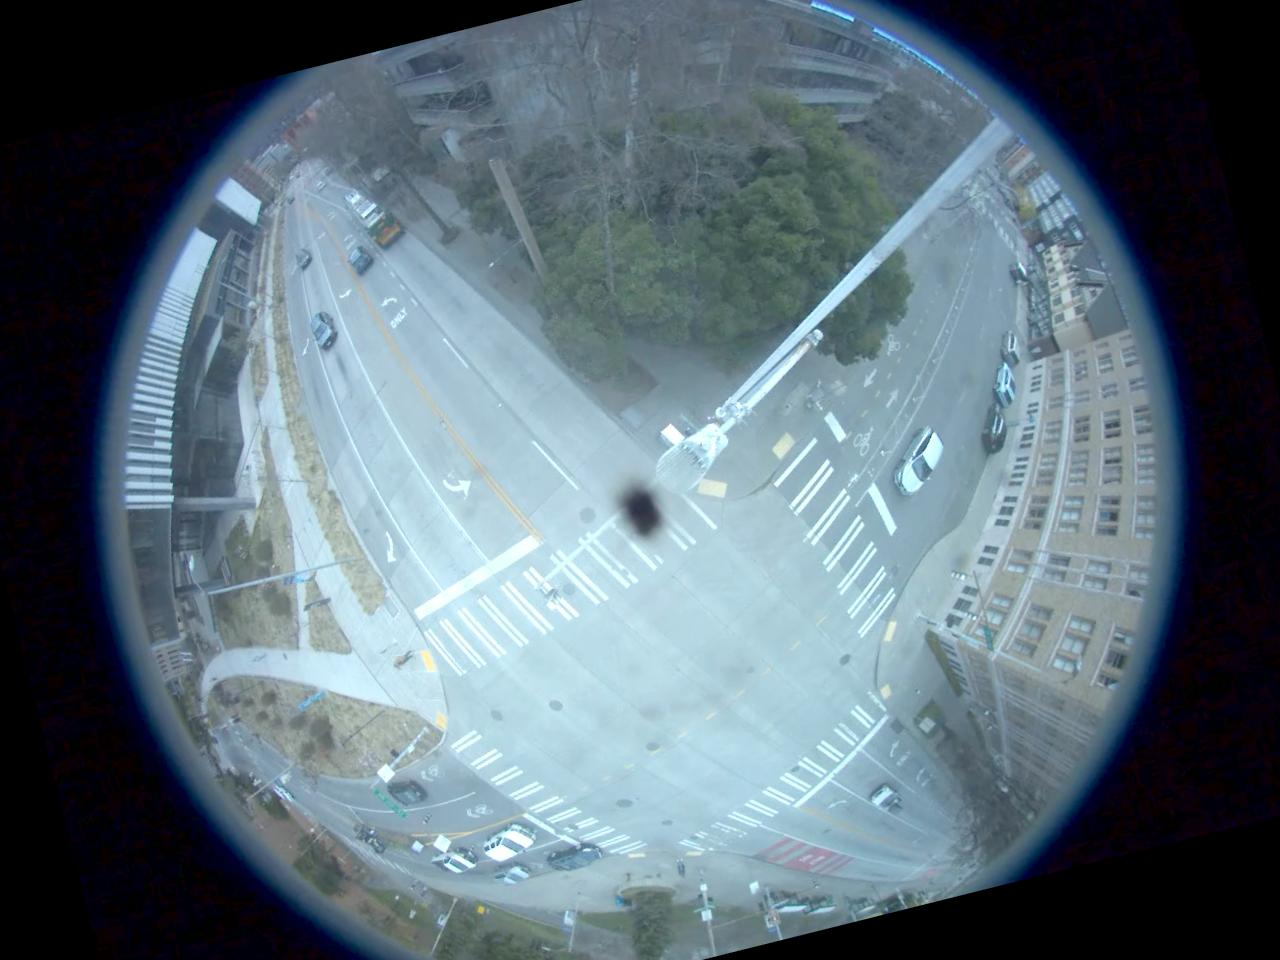bus: (342, 180, 410, 253)
car: (884, 426, 944, 494), (540, 834, 608, 880), (480, 821, 537, 863), (972, 400, 1012, 457), (381, 770, 430, 814), (982, 363, 1021, 409), (865, 778, 908, 818), (341, 236, 378, 282), (307, 310, 343, 352), (434, 846, 478, 880), (993, 326, 1025, 370), (492, 860, 534, 892), (290, 242, 314, 276)
person: (387, 650, 418, 672), (671, 854, 690, 885)
